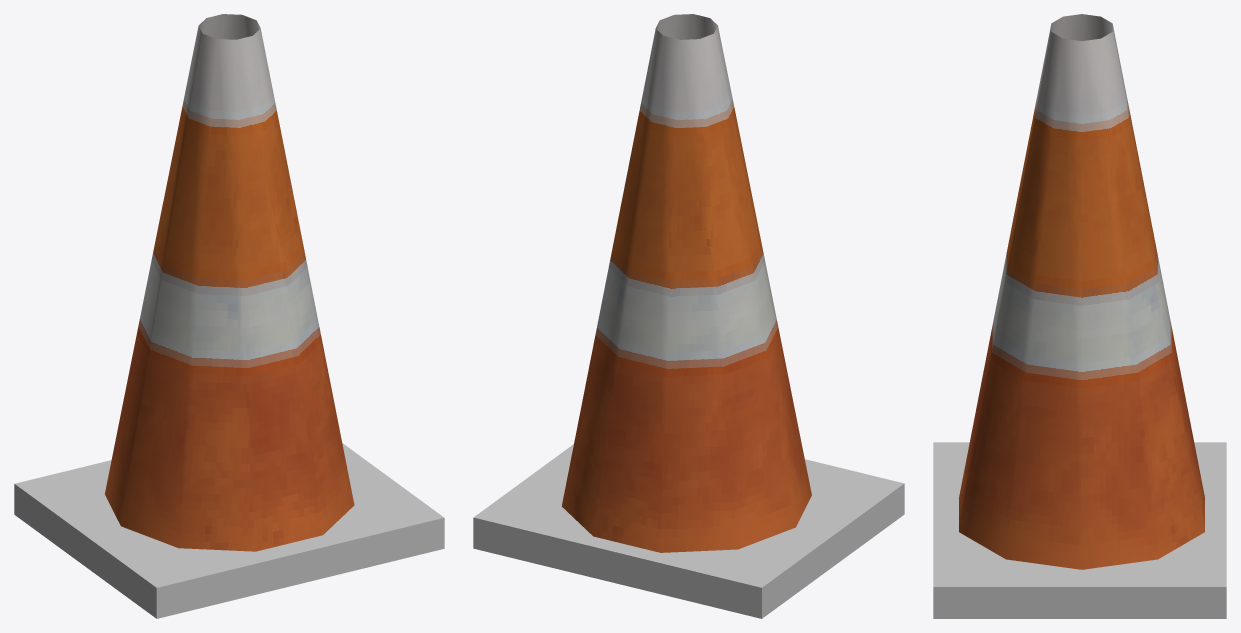
File: Pilon.FBX
3 renders of one model, left to right at view 1: azimuth 30°, elevation 25°; view 2: azimuth 150°, elevation 25°; view 3: azimuth 270°, elevation 25°, orthographic. The views are drawn at different scales.
Visible parts, largest first — view 1: polySurface11; view 2: polySurface11; view 3: polySurface11.
Boxes of the visible parts, x1=… form: polySurface11: x1=14, y1=14, x2=444, y2=618; polySurface11: x1=473, y1=14, x2=904, y2=618; polySurface11: x1=933, y1=14, x2=1226, y2=618.
Bounding box in the file's own units: 0.3415 × 0.5715 × 0.2926.
